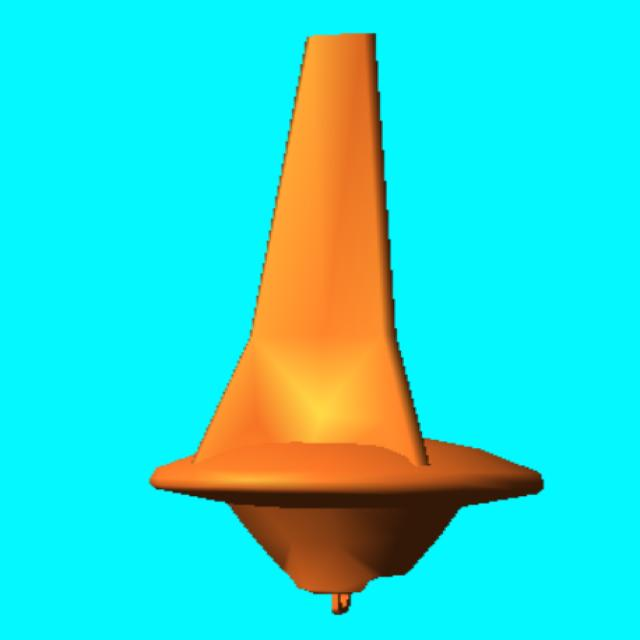OrangeBuoy: (150, 34, 543, 613)
